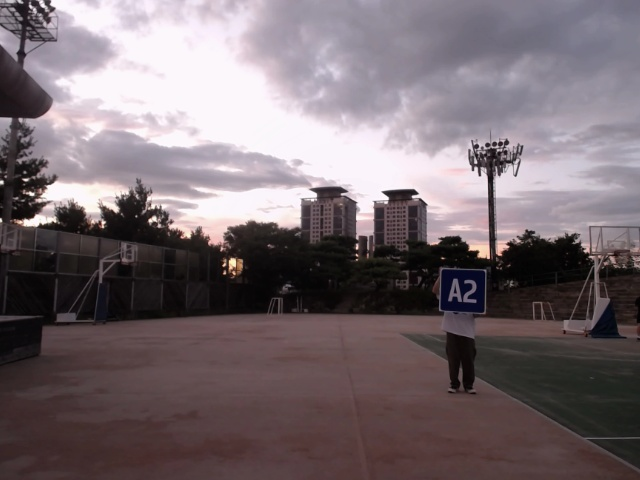delivery_a2: (439, 268, 486, 313)
